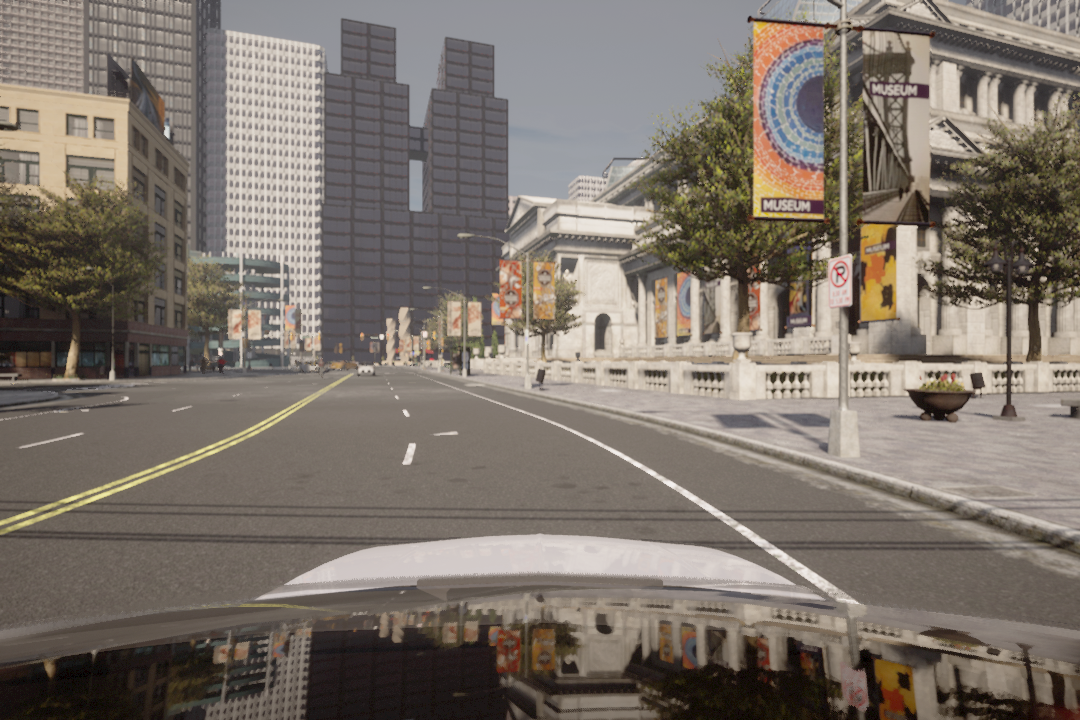TrafficSign_nstop: (826, 255, 851, 306)
